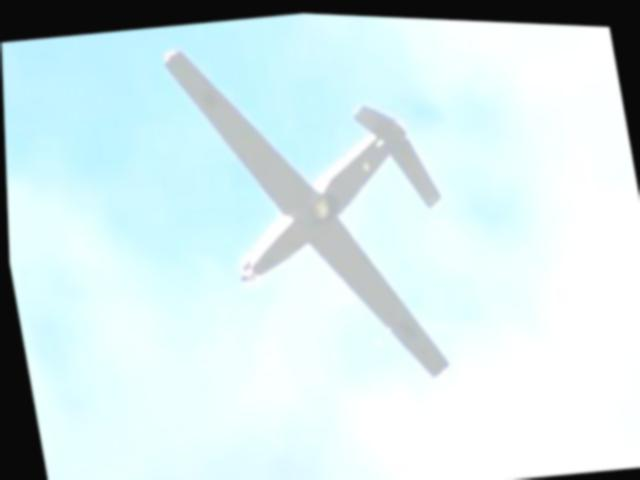iha: (154, 6, 475, 409)
